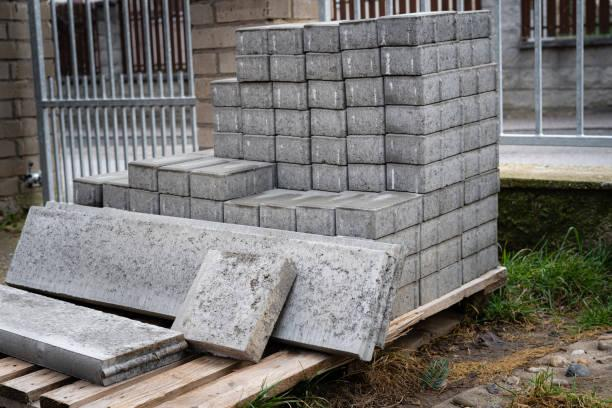Bricks: (416, 258, 465, 307), (378, 194, 427, 239), (268, 184, 334, 212), (418, 238, 464, 278), (348, 188, 416, 215), (460, 213, 498, 261), (421, 156, 470, 193), (306, 186, 377, 210), (454, 170, 497, 207), (460, 192, 503, 229), (202, 158, 271, 180), (423, 183, 465, 219), (459, 250, 497, 289), (416, 215, 458, 250), (408, 14, 460, 42), (230, 184, 292, 207), (424, 96, 463, 132), (229, 170, 275, 197), (380, 78, 423, 106), (465, 89, 498, 125), (423, 127, 456, 163), (459, 65, 497, 96), (468, 143, 499, 181), (420, 70, 459, 100), (298, 209, 336, 238), (458, 8, 491, 40), (420, 42, 454, 73), (463, 121, 495, 153), (242, 108, 277, 136), (349, 77, 379, 109), (341, 209, 379, 234), (457, 37, 487, 68), (172, 154, 230, 170), (303, 81, 338, 107), (346, 108, 385, 131), (343, 49, 377, 75), (306, 138, 344, 161), (263, 203, 295, 230), (377, 19, 410, 45), (385, 137, 418, 163), (348, 163, 383, 187), (307, 50, 338, 77), (281, 161, 317, 184), (269, 56, 303, 80), (349, 136, 383, 160), (276, 135, 305, 163), (194, 175, 226, 200), (246, 138, 282, 160), (228, 206, 262, 229), (385, 48, 418, 71), (387, 111, 424, 131), (244, 84, 276, 107), (132, 163, 161, 188), (159, 169, 187, 194), (271, 30, 300, 54), (276, 109, 305, 133), (276, 82, 304, 106), (239, 30, 268, 53), (130, 188, 154, 215), (388, 166, 420, 185), (345, 24, 375, 44), (242, 56, 268, 79), (193, 200, 219, 223), (311, 167, 342, 186), (142, 155, 195, 166), (162, 192, 191, 212), (313, 115, 343, 134), (307, 26, 334, 47), (215, 109, 239, 132), (106, 182, 126, 208), (214, 85, 240, 104), (80, 182, 99, 208), (217, 138, 242, 154)
